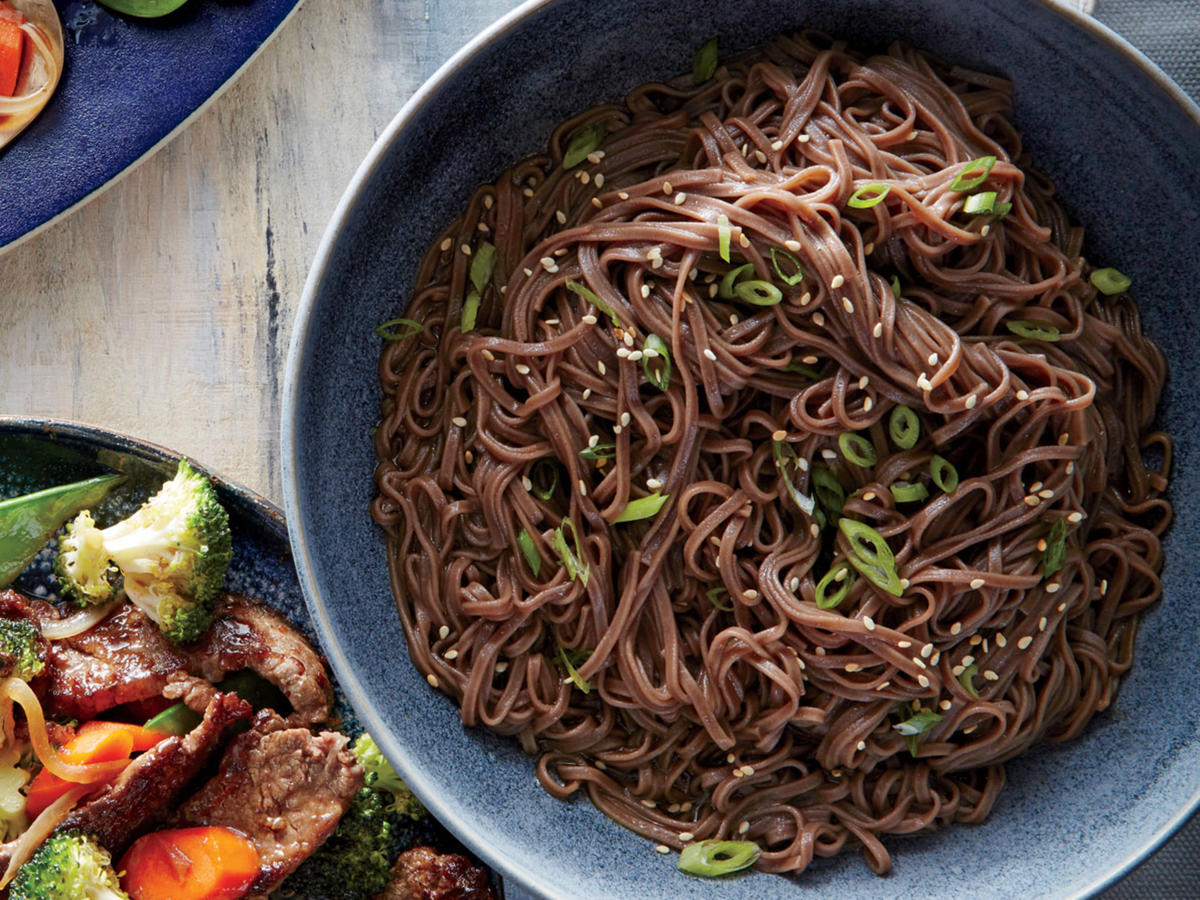Soba: (412, 63, 1165, 860)
